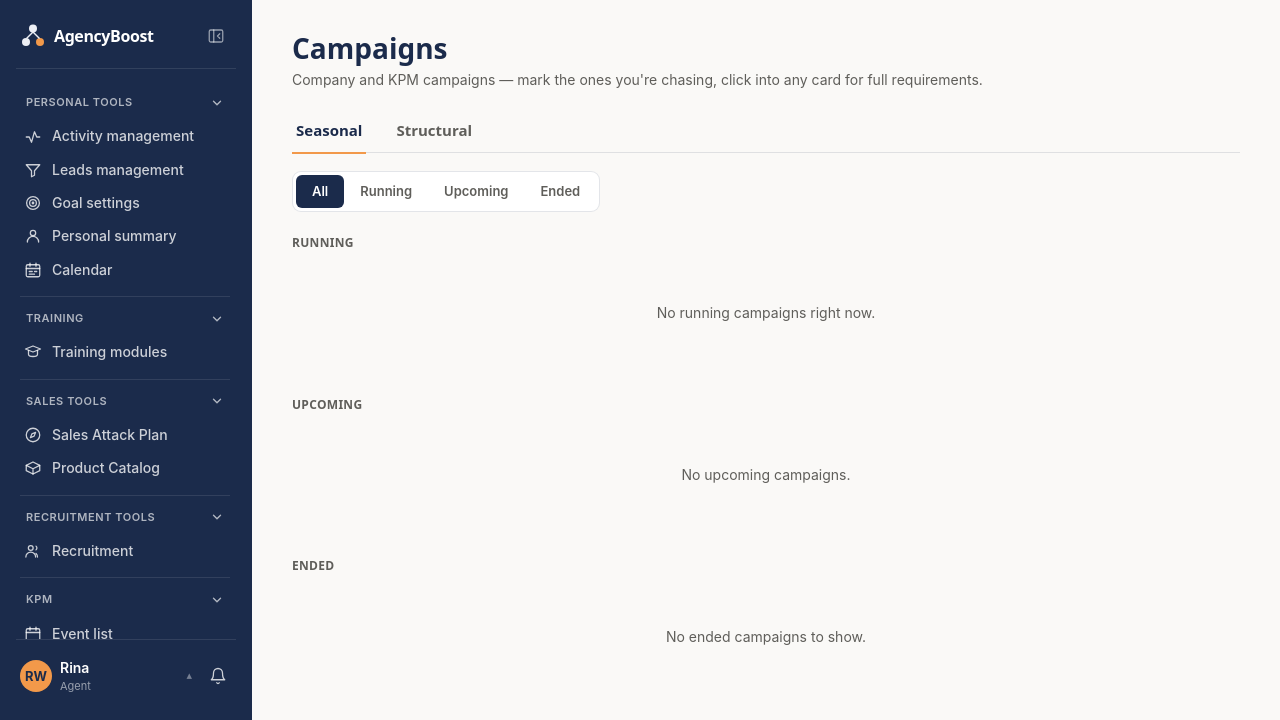
/campaigns, the list (P18.5-T7) › the page, verbatim (AC-2) › P18.5-T7 AC-2 the five empty lines, verbatim
Expected: the text "No running campaigns right now." is shown, [657,304,875,321]
Expected: the text "No upcoming campaigns." is shown, [682,466,851,483]
Click the tab "Structural" at coordinates (434, 132), box [392,110,476,154]
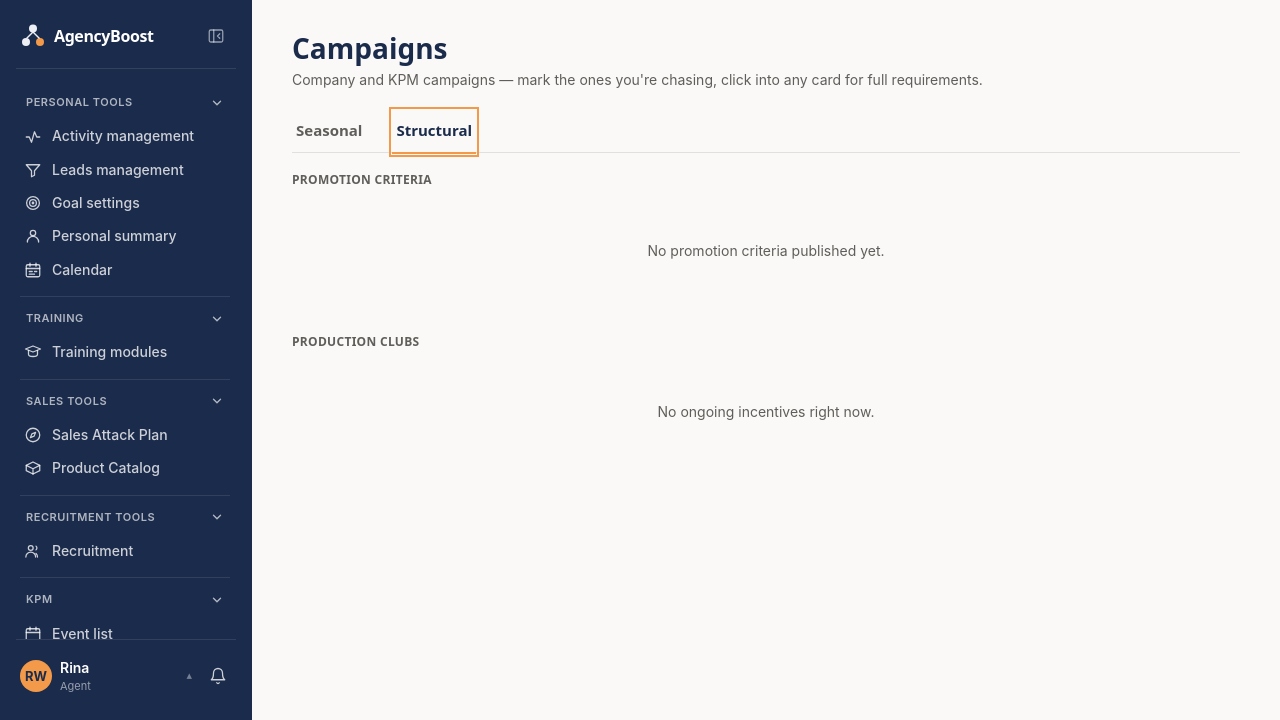
Now the text "No promotion criteria published yet." is shown, box [648,242,884,258]
Now the text "No ongoing incentives right now." is shown, box [658,403,874,420]
